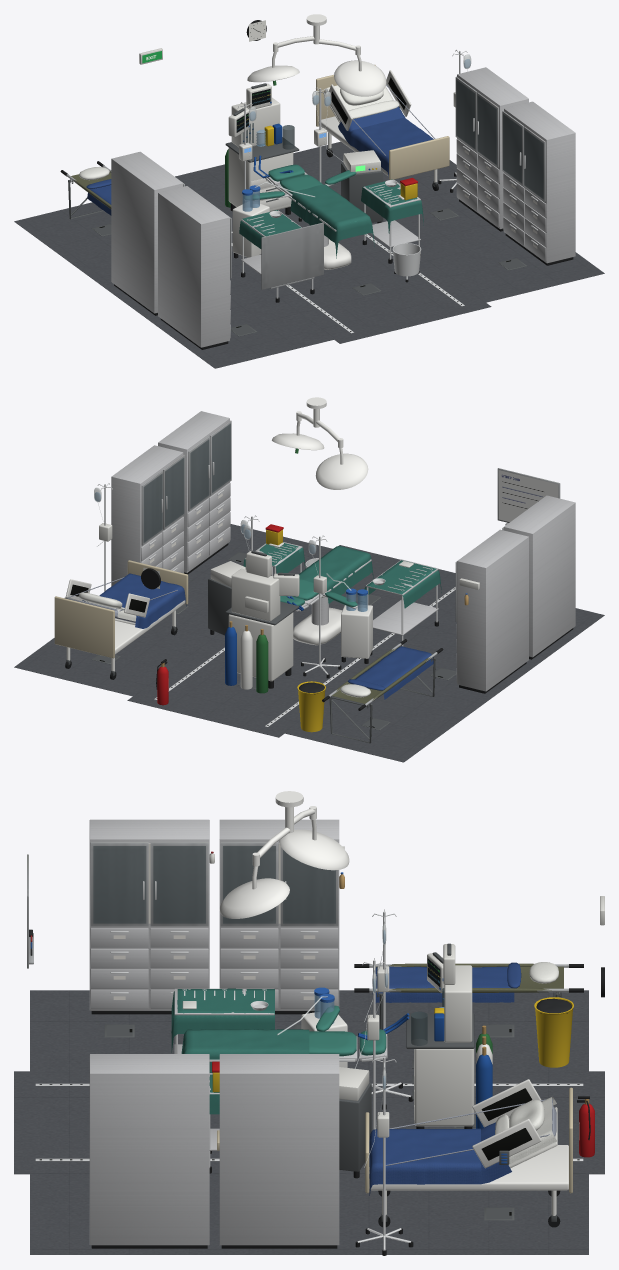
File: ehmecc-fitout.glb
3 views of the same model, one above another, from view 1: azimuth 30°, elevation 25°; view 2: azimuth 150°, elevation 25°; view 3: azimuth 270°, elevation 25° (orthographic). The views are drawn at different scales.
Visible parts, largest first — view 1: EHMECC_fitout; view 2: EHMECC_fitout; view 3: EHMECC_fitout.
Boxes of the visible parts, x1,y1,x2,y2 form: EHMECC_fitout: (14,14,604,368); EHMECC_fitout: (14,397,604,762); EHMECC_fitout: (14,791,604,1255).
Size of the model in its own units: 6.28 by 3.61 by 5.92.
Materials: 41 (12 with a texture image).
